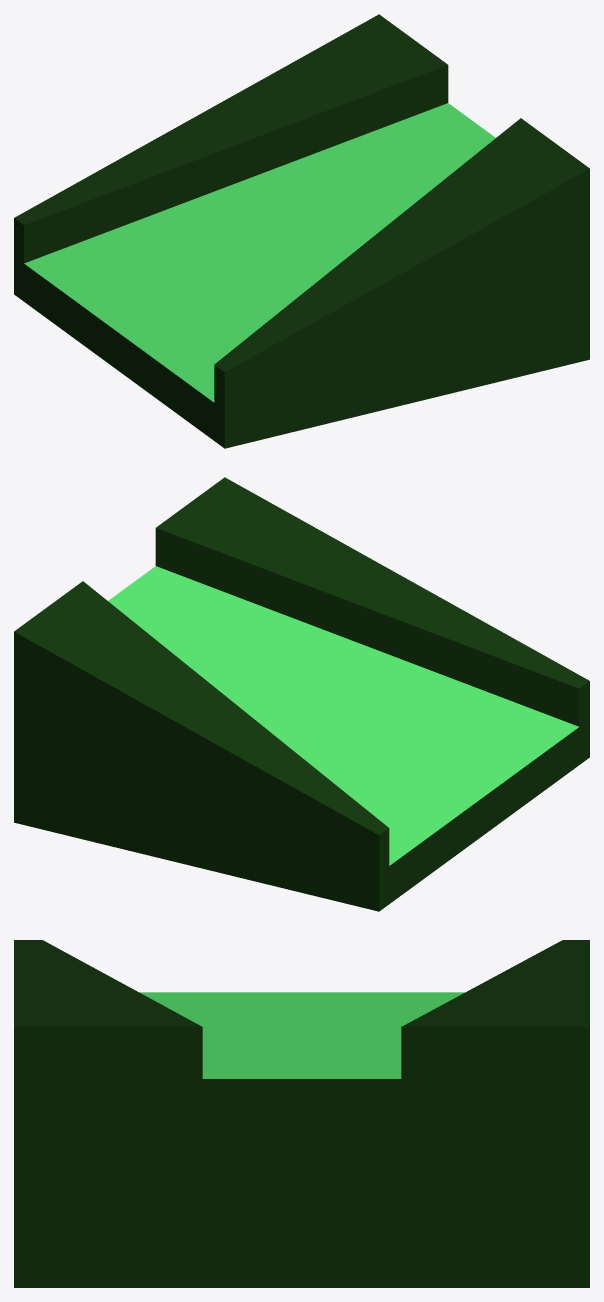
Rendered from MG Ramp Narrow 2.fbx.
3 views of the same model, one above another, from view 1: azimuth 30°, elevation 25°; view 2: azimuth 150°, elevation 25°; view 3: azimuth 270°, elevation 25° (orthographic). The views are drawn at different scales.
Visible parts, largest first — view 1: MG Ramp Narrow 2; view 2: MG Ramp Narrow 2; view 3: MG Ramp Narrow 2.
Part boxes in pixels (x1=…): MG Ramp Narrow 2: x1=14, y1=14, x2=589, y2=448; MG Ramp Narrow 2: x1=14, y1=477, x2=589, y2=911; MG Ramp Narrow 2: x1=14, y1=940, x2=589, y2=1287.
Bounding box in the file's own units: 200 × 100 × 200.
